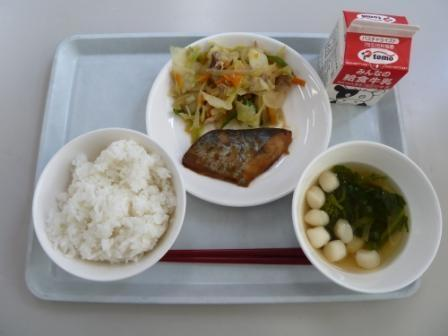Fish: (181, 125, 296, 189)
Milk: (318, 6, 415, 111)
Rice: (26, 132, 184, 280)
Soups: (293, 146, 440, 287)
vegetable based cooked food: (166, 37, 291, 126)
